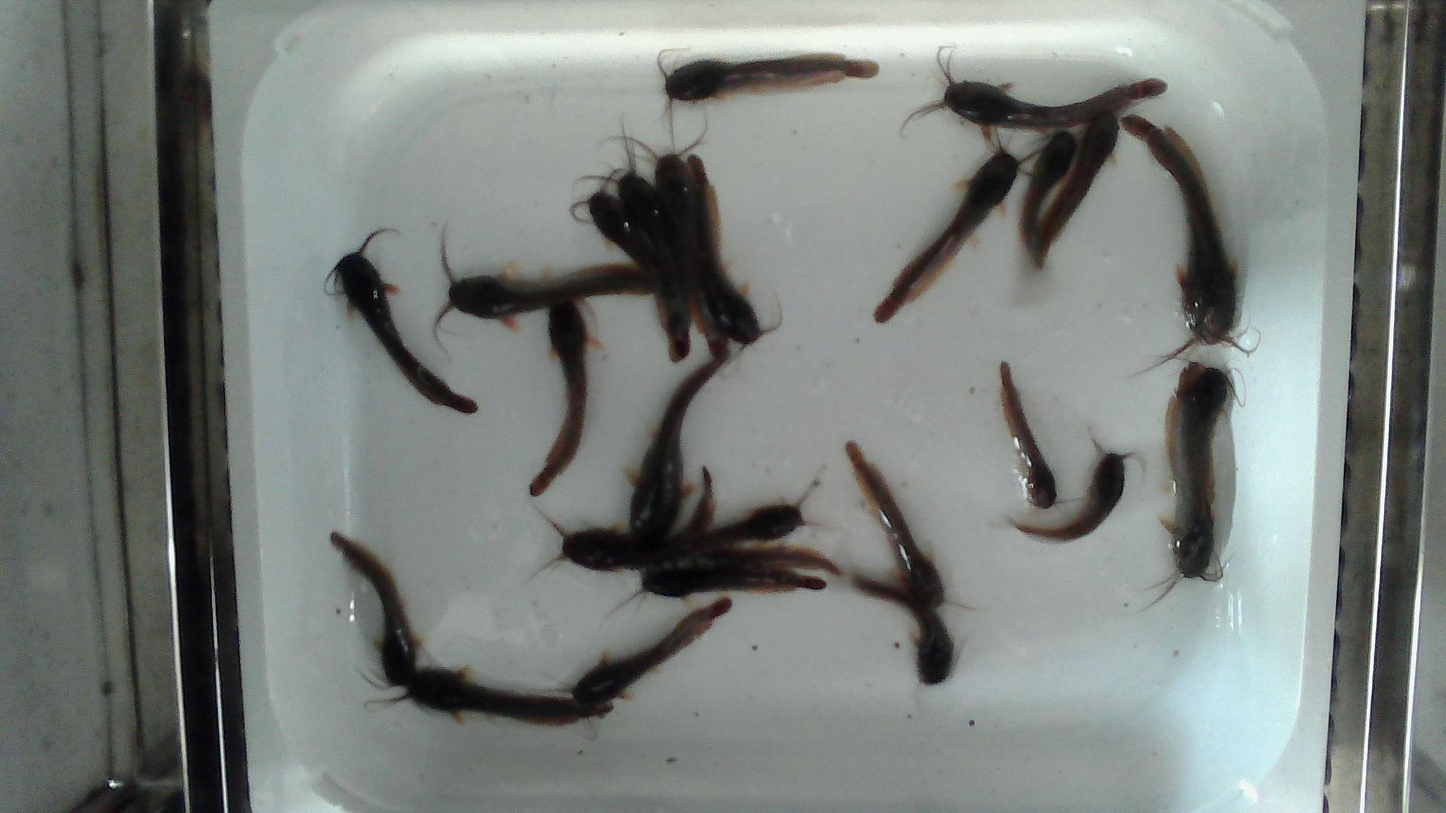lele: (1121, 114, 1254, 364), (603, 107, 728, 358), (874, 147, 1044, 322), (570, 118, 691, 363), (331, 230, 476, 413), (900, 46, 1167, 144), (1142, 360, 1234, 608), (656, 49, 879, 151), (434, 231, 654, 333), (845, 441, 976, 612), (530, 465, 714, 577), (552, 596, 736, 705), (624, 351, 727, 544), (686, 155, 782, 360), (638, 467, 832, 566), (568, 168, 668, 334), (363, 664, 613, 729), (331, 535, 424, 694), (848, 570, 956, 688), (1012, 436, 1133, 541), (1037, 111, 1118, 266), (604, 565, 829, 620), (529, 300, 588, 495), (1001, 362, 1056, 508), (1023, 131, 1076, 253), (1196, 366, 1241, 505), (642, 547, 841, 576)
